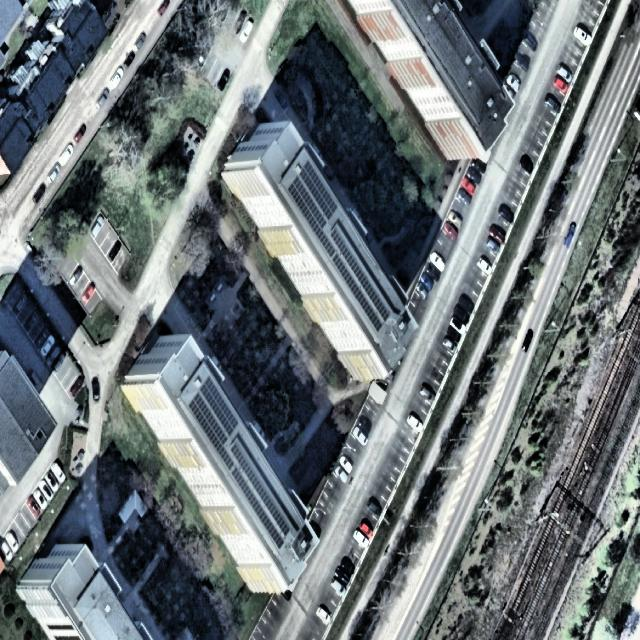roof_pv: (186, 376, 240, 442), (289, 159, 340, 223), (231, 473, 278, 509), (254, 508, 294, 550), (210, 442, 259, 474), (310, 223, 356, 256), (354, 292, 392, 331), (334, 260, 374, 291)
